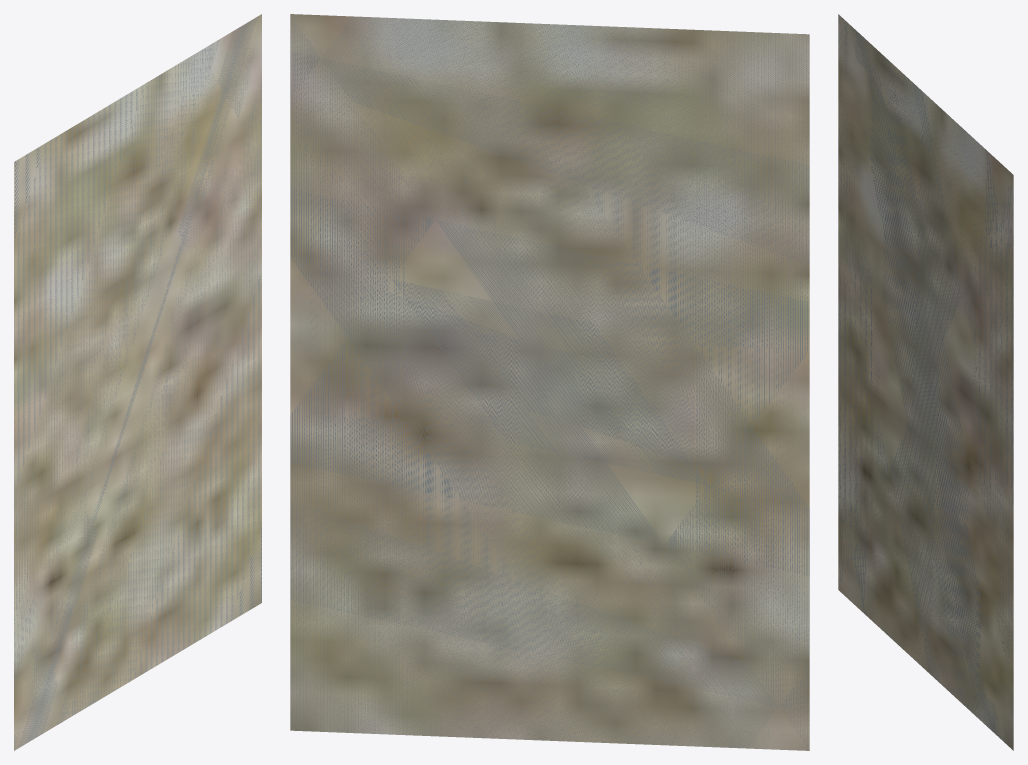
The model's file is 西庸城堡86.dae.
3 views of the same model, side by side, from view 1: azimuth 30°, elevation 25°; view 2: azimuth 150°, elevation 25°; view 3: azimuth 270°, elevation 25° (orthographic). The views are drawn at different scales.
Visible parts, largest first — view 1: SketchUp; view 2: SketchUp; view 3: SketchUp.
Part boxes in pixels (left/top/right/bottom): SketchUp: left=14, top=14, right=261, bottom=750; SketchUp: left=290, top=14, right=809, bottom=750; SketchUp: left=838, top=14, right=1013, bottom=750.
Size of the model in its own units: 30.44 by 14.01 by 50.79.
